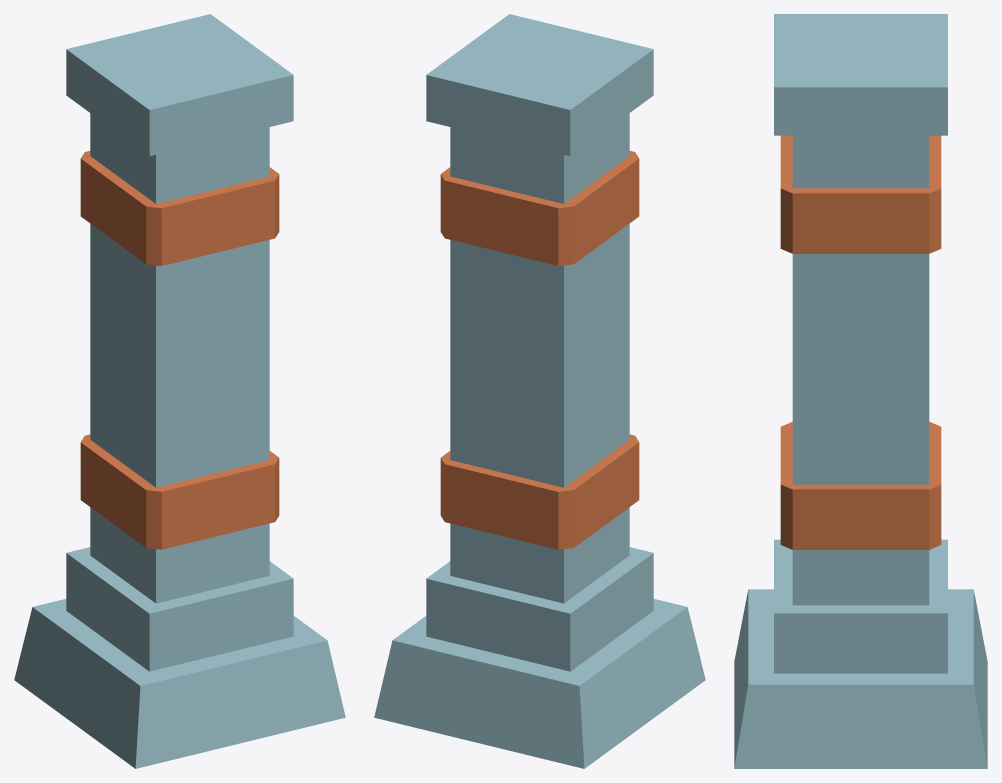
File: d_kenney_colonne_large.glb
3 renders of one model, left to right at view 1: azimuth 30°, elevation 25°; view 2: azimuth 150°, elevation 25°; view 3: azimuth 270°, elevation 25°, orthographic. The views are drawn at different scales.
Visible parts, largest first — view 1: d_kenney_colonne_large; view 2: d_kenney_colonne_large; view 3: d_kenney_colonne_large.
Boxes of the visible parts, bbox=[...] form: d_kenney_colonne_large: bbox=[14, 14, 345, 768]; d_kenney_colonne_large: bbox=[374, 14, 705, 768]; d_kenney_colonne_large: bbox=[734, 14, 987, 768].
Size of the model in its own units: 0.3801 by 1.1 by 0.3801.
1 material, 1 textured.
